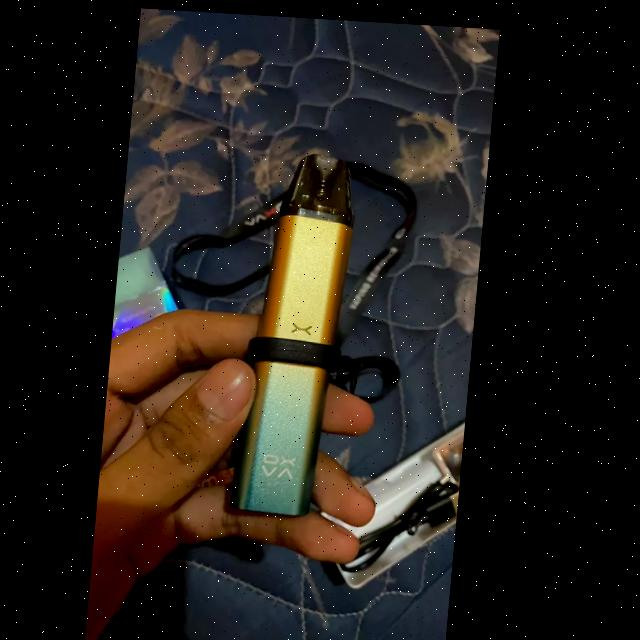vape: (235, 147, 363, 513)
